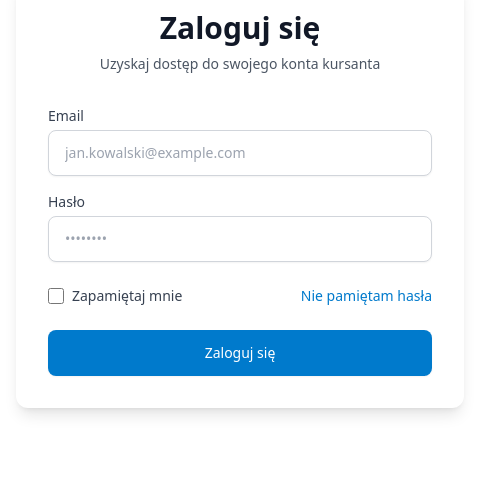
Scenario: LoginForm › Form Validation › should validate required fields
Click the button with test id "submit-button".
click(240, 353)  # box [48,330,432,376]
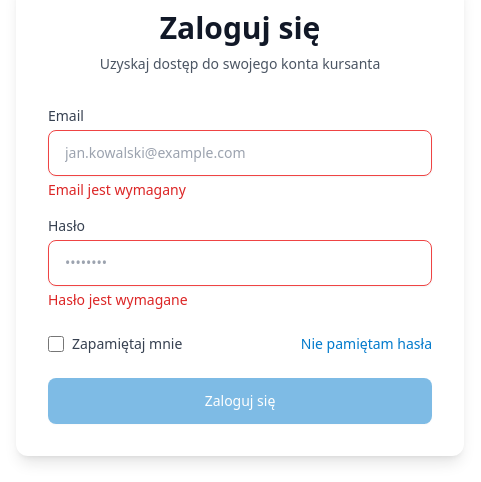
expect the text with test id "email-error" reads "Email jest wymagany": met, box [48,180,186,199]
expect the text with test id "password-error" reads "Hasło jest wymagane": met, box [48,290,188,309]
